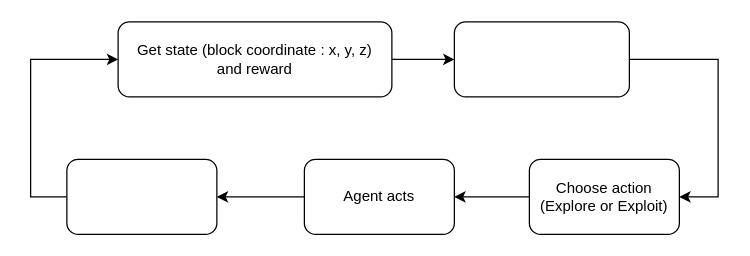
Some shapes in this 750 by 256 pixel diagram are drawn without their labels. The shapes that lost their labels are listed below. From the top down, each one's centre as x and y in pixels, then its label:
(541,59): Update Q table
(141,196): Enviroment
